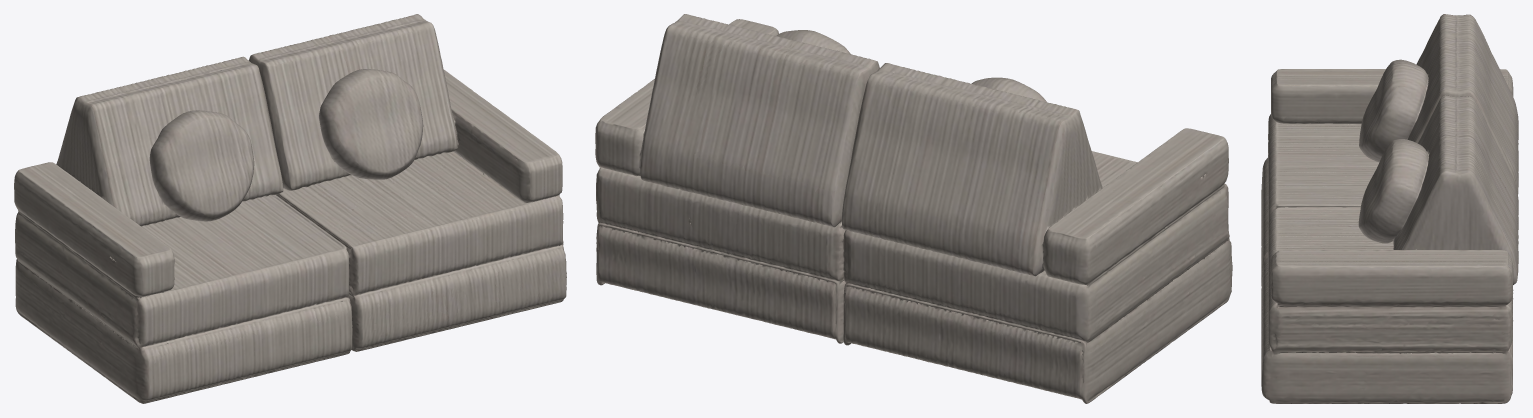
Rendered from Contemporary Corduroy Modular Sofa with Integrated Armrests [zibRAx].glb.
3 renders of one model, left to right at view 1: azimuth 30°, elevation 25°; view 2: azimuth 150°, elevation 25°; view 3: azimuth 270°, elevation 25°, orthographic. The views are drawn at different scales.
Parts seen in each view (by area): view 1: world; view 2: world; view 3: world.
Boxes of the visible parts, bbox=[...] form: world: bbox=[14, 14, 566, 403]; world: bbox=[595, 14, 1232, 403]; world: bbox=[1261, 14, 1518, 403].
Size of the model in its own units: 1 by 0.4961 by 0.543.
Materials: 1 (1 with a texture image).
